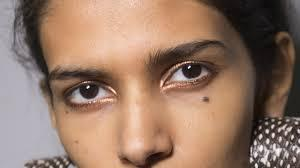Persons: (19, 0, 267, 168)
